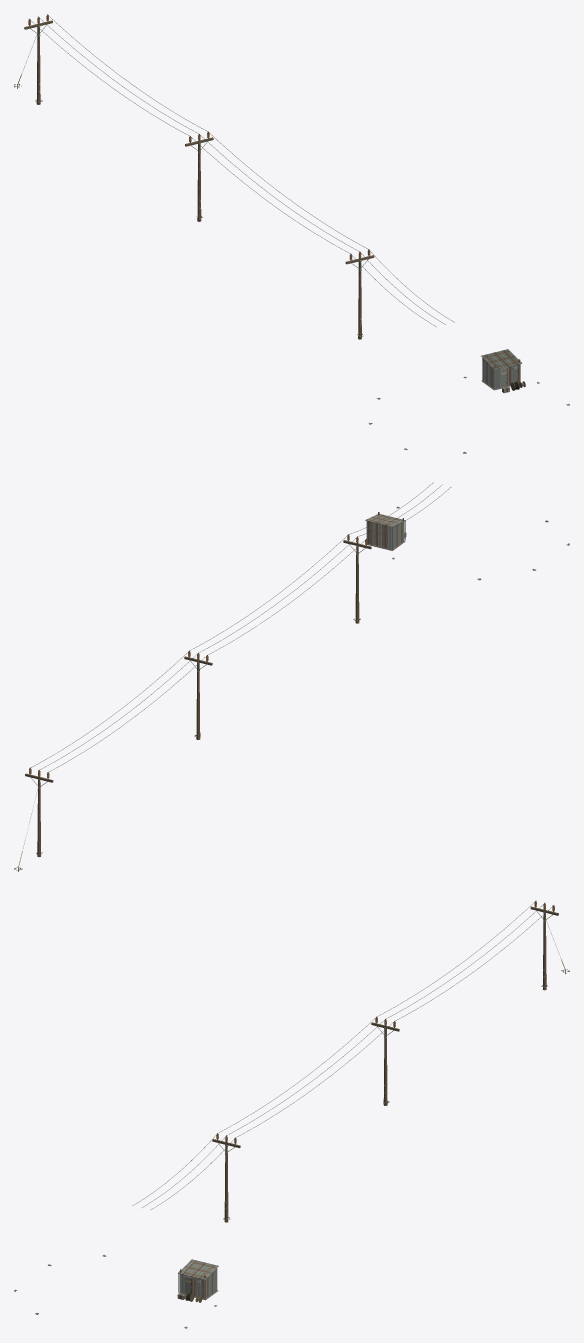
Rendered from Substation_Site.glb.
3 renders of one model, top to bottom at view 1: azimuth 30°, elevation 25°; view 2: azimuth 150°, elevation 25°; view 3: azimuth 330°, elevation 25°, orthographic.
Visible parts, largest first — view 1: SM_SubstationSite_Shed, SM_SubstationSite_Lines; view 2: SM_SubstationSite_Lines, SM_SubstationSite_Shed; view 3: SM_SubstationSite_Shed, SM_SubstationSite_Lines.
Part boxes in pixels (x1,y1,x2,y2): SM_SubstationSite_Shed: (481,349,522,390); SM_SubstationSite_Lines: (17,14,454,326); SM_SubstationSite_Lines: (18,482,450,871); SM_SubstationSite_Shed: (365,512,405,550); SM_SubstationSite_Shed: (178,1259,218,1300); SM_SubstationSite_Lines: (132,900,565,1209).
Bounding box in the file's own units: 19.63 × 9.66 × 98.28.
11 materials, 7 textured.
